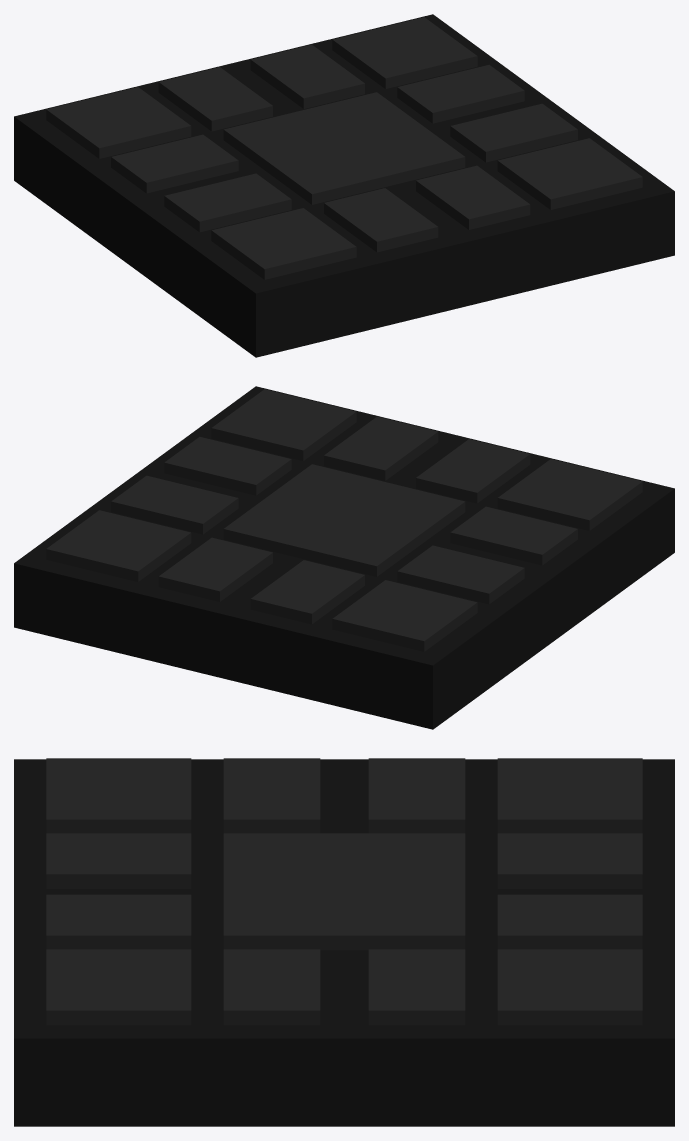
File: Floor1.obj
The picture shows the model from 3 angles, top to bottom: view 1: azimuth 30°, elevation 25°; view 2: azimuth 150°, elevation 25°; view 3: azimuth 270°, elevation 25°; orthographic projection. The views are drawn at different scales.
Size of the model in its own units: 41 by 7 by 41.
1 material, 1 textured.
